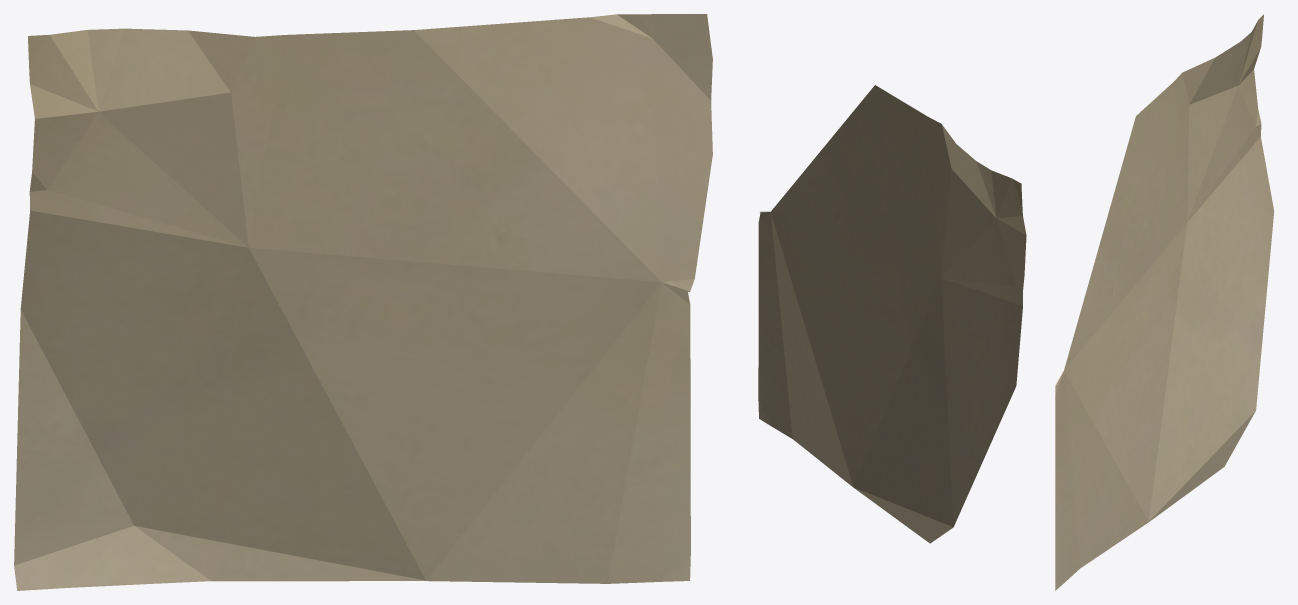
3 renders of one model, left to right at view 1: azimuth 30°, elevation 25°; view 2: azimuth 150°, elevation 25°; view 3: azimuth 270°, elevation 25°, orthographic. The views are drawn at different scales.
Bounding box in the file's own units: 1.67 × 1.67 × 0.8688.
Materials: 3 (3 with a texture image).
